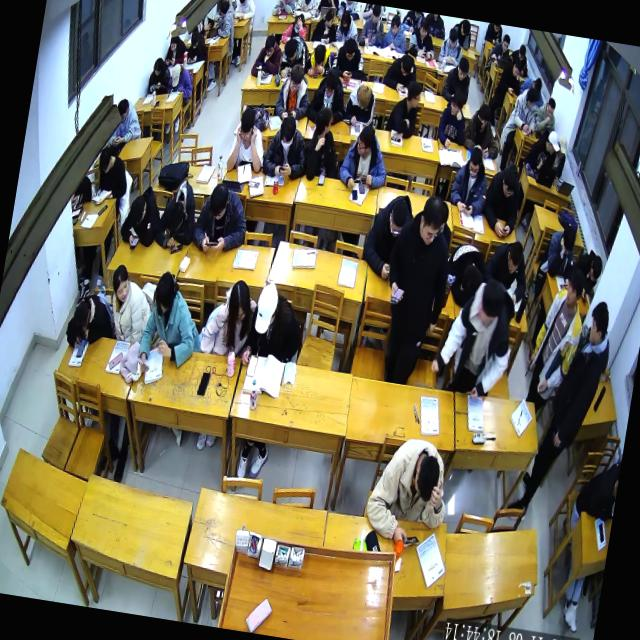bow: (154, 180, 201, 252), (64, 289, 116, 352), (442, 240, 488, 308), (118, 184, 165, 250), (571, 249, 604, 303), (279, 34, 311, 80), (304, 41, 334, 80), (281, 11, 309, 46), (271, 0, 297, 16)
down: (252, 280, 280, 334), (412, 454, 442, 503), (386, 198, 410, 238), (186, 28, 212, 64), (207, 183, 230, 221), (277, 114, 298, 150), (500, 164, 520, 200), (71, 301, 92, 335), (504, 240, 524, 274), (165, 200, 186, 232), (238, 108, 256, 144), (128, 194, 148, 225), (466, 146, 484, 179), (287, 62, 305, 93), (322, 68, 340, 98), (559, 226, 577, 256), (355, 82, 372, 110), (98, 146, 114, 174), (282, 38, 299, 62), (589, 255, 604, 282), (312, 43, 327, 67), (343, 38, 358, 62), (456, 58, 471, 82), (264, 34, 278, 58), (116, 98, 130, 122), (170, 62, 182, 88), (400, 54, 414, 76), (544, 98, 557, 120), (556, 136, 568, 158), (418, 17, 430, 38), (389, 14, 401, 35), (152, 56, 164, 77), (340, 10, 352, 30), (448, 27, 458, 48), (294, 14, 304, 34), (190, 30, 200, 50), (518, 42, 528, 62), (371, 6, 382, 24), (511, 61, 522, 78), (169, 34, 179, 52), (238, 0, 248, 5)
lookup: (501, 34, 511, 52)
sit: (518, 293, 616, 529), (372, 188, 462, 386), (361, 431, 457, 552), (428, 274, 520, 400), (522, 264, 591, 418), (136, 269, 209, 379), (240, 279, 306, 369), (361, 190, 415, 282), (200, 276, 258, 360), (190, 181, 252, 258), (104, 262, 157, 342), (336, 122, 393, 194), (480, 238, 532, 304), (480, 160, 524, 238), (262, 114, 312, 180), (303, 106, 345, 184), (448, 146, 493, 218), (226, 106, 270, 176), (304, 66, 350, 126), (462, 102, 505, 160), (274, 61, 314, 120), (384, 78, 422, 140), (544, 224, 580, 288), (93, 145, 132, 201), (436, 88, 471, 149), (109, 97, 146, 149), (508, 85, 542, 138), (330, 36, 368, 82), (342, 80, 378, 128), (523, 126, 559, 174), (250, 32, 284, 80), (442, 54, 474, 104), (384, 50, 421, 93), (407, 16, 440, 62), (358, 3, 388, 47), (166, 63, 196, 104), (437, 26, 466, 66), (310, 6, 340, 43), (497, 60, 525, 98), (146, 56, 172, 95), (534, 97, 560, 134), (506, 42, 532, 78), (214, 0, 239, 37), (336, 9, 362, 44), (488, 32, 512, 68), (552, 135, 570, 180), (164, 33, 188, 66), (233, 0, 259, 22)
